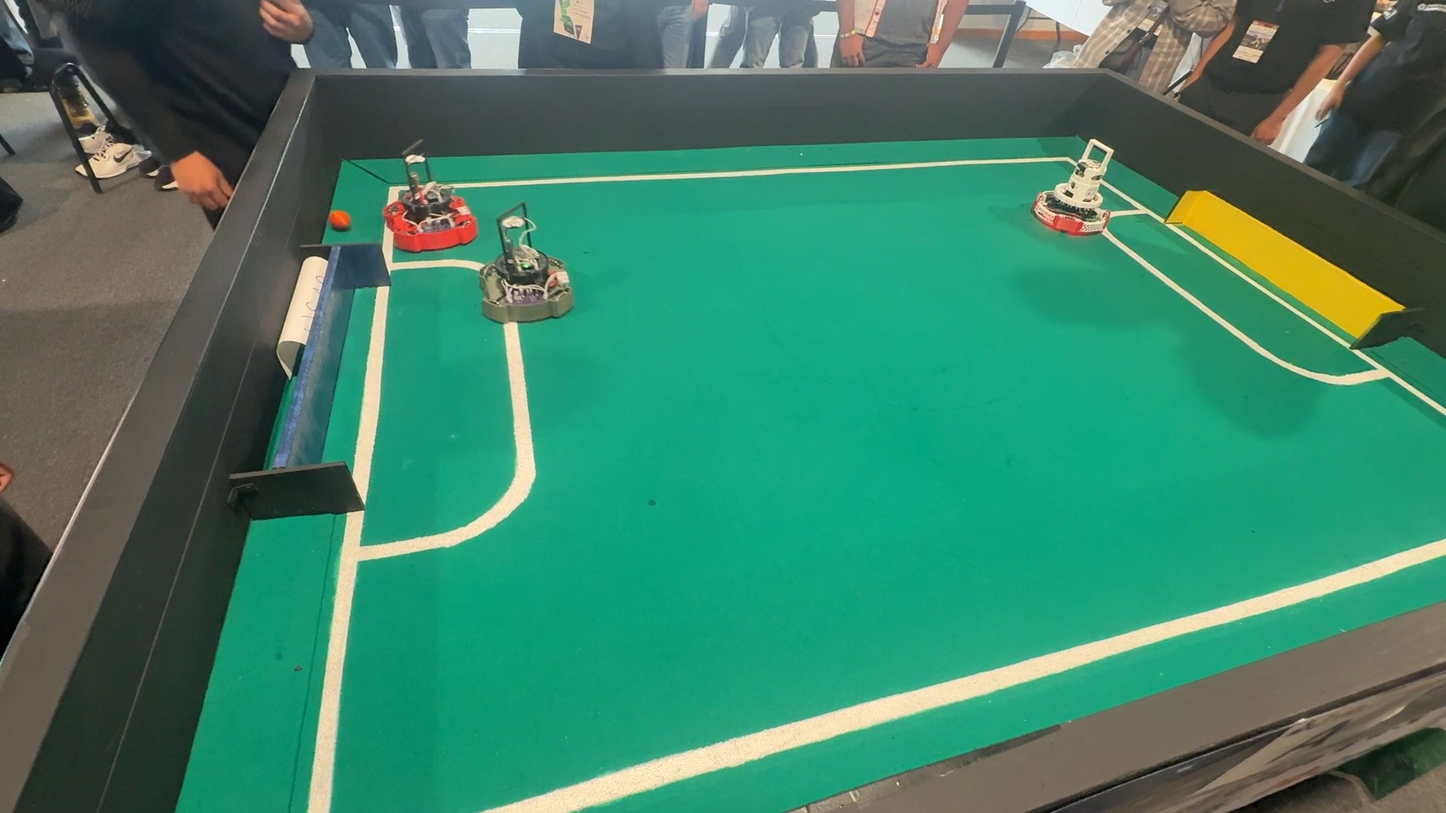Robot: (473, 207, 582, 324), (1030, 134, 1142, 243), (386, 159, 487, 258)
pelota: (325, 211, 355, 235)
